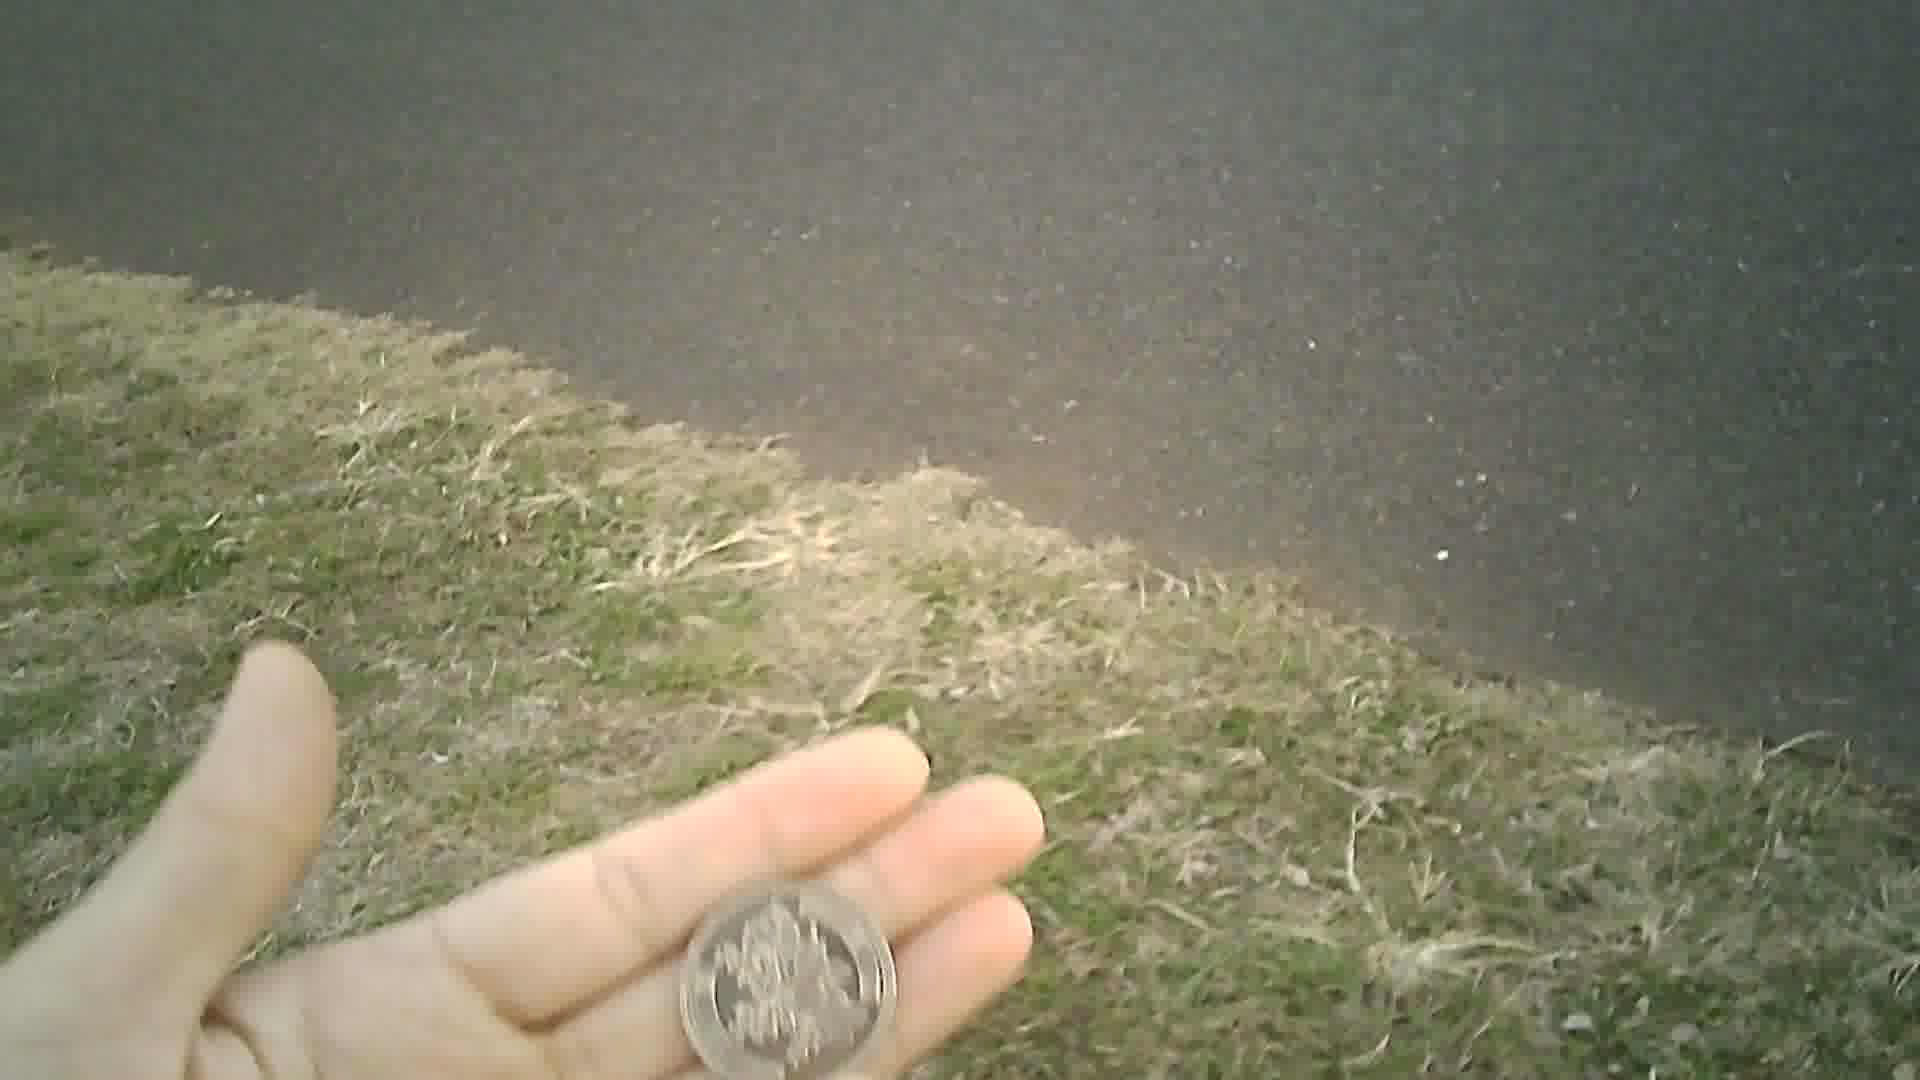500 Yen: (670, 869, 895, 1077)
